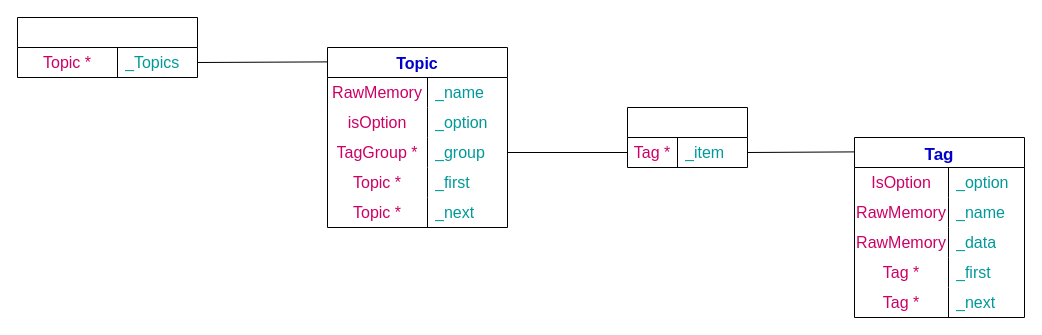
The diagram is 1042 pixels wide and 335 high, and some of its shapes have lost their labels. The shapes that lost their labels are listed below. From the top down, each one's box as (x1, y1, x2, y2) in pixels, then its label:
(16, 16, 198, 78): TopicGroup
(626, 106, 748, 168): TagGroup
